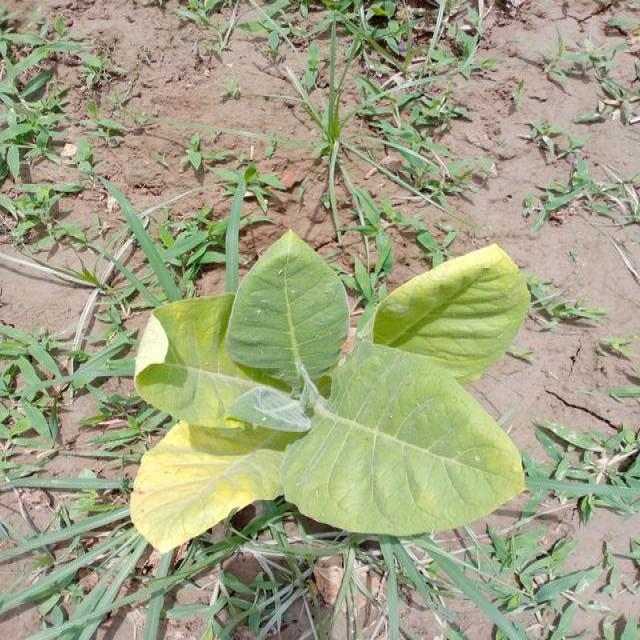crop: (132, 226, 527, 547)
